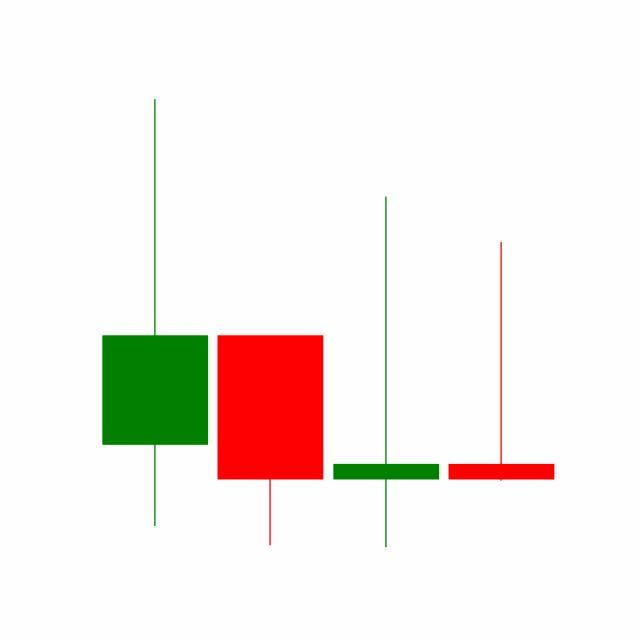Spinning Top: (329, 193, 445, 552)
